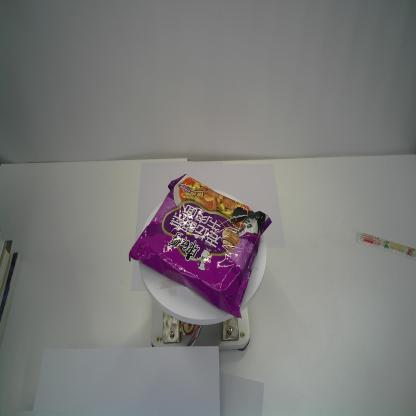Instant Noodles: (127, 174, 272, 320)
